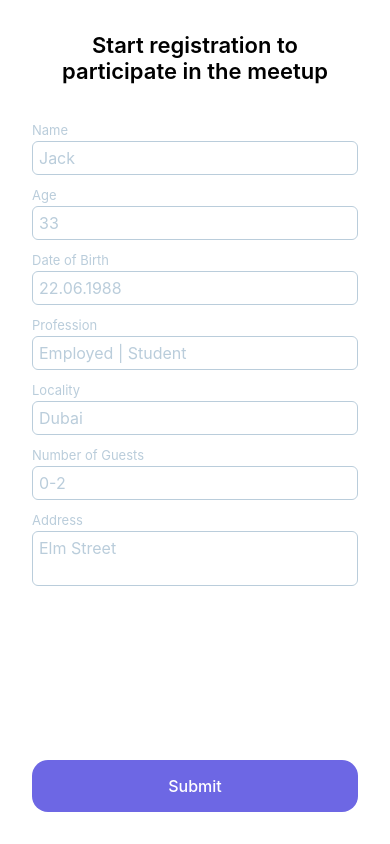
Scenario: Registration screen › should show error messages if Form input fields haven't been filled
Click the element with test id "buttonSubmit": (195, 786) [32,760,358,812]
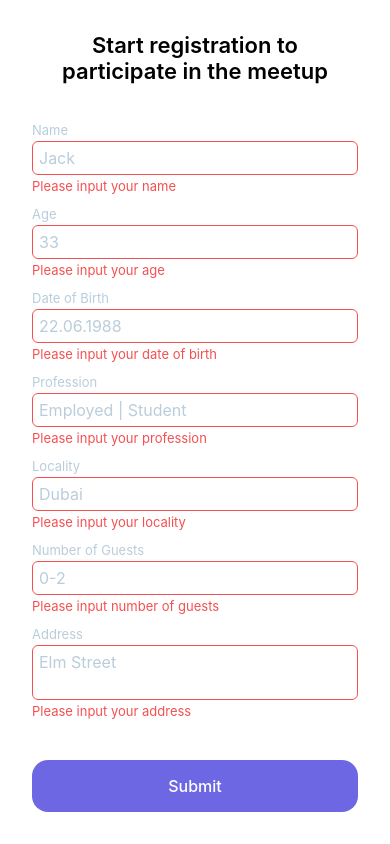
Check: the text "Please input your name" is shown, box [32,178,176,194]
Check: the text "Please input your age" is shown, box [32,262,165,278]
Check: the text "Please input your date of birth" is shown, box [32,346,217,362]
